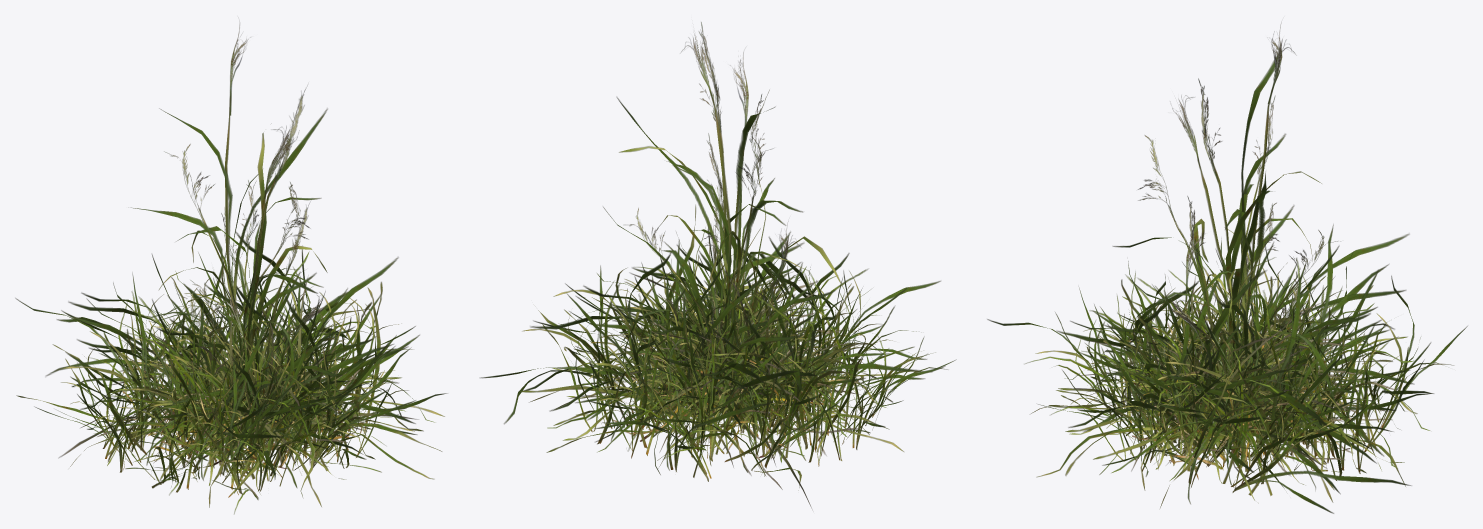
The model's file is grass.glb.
3 renders of one model, left to right at view 1: azimuth 30°, elevation 25°; view 2: azimuth 150°, elevation 25°; view 3: azimuth 270°, elevation 25°, orthographic. The views are drawn at different scales.
Visible parts, largest first — view 1: grass_medium_01_geonodes_large_a_LOD0, grass_medium_01_geonodes_large_c_LOD0, grass_medium_01_geonodes_large_b_LOD0, grass_medium_01_geonodes_mid_a_LOD0, grass_medium_01_geonodes_tall_b_LOD0, grass_medium_01_geonodes_tall_a_LOD0, grass_medium_01_geonodes_mid_c_LOD0; view 2: grass_medium_01_geonodes_large_a_LOD0, grass_medium_01_geonodes_large_c_LOD0, grass_medium_01_geonodes_large_b_LOD0, grass_medium_01_geonodes_mid_a_LOD0, grass_medium_01_geonodes_tall_a_LOD0, grass_medium_01_geonodes_tall_b_LOD0, grass_medium_01_geonodes_mid_c_LOD0; view 3: grass_medium_01_geonodes_large_a_LOD0, grass_medium_01_geonodes_large_c_LOD0, grass_medium_01_geonodes_large_b_LOD0, grass_medium_01_geonodes_mid_a_LOD0, grass_medium_01_geonodes_tall_a_LOD0, grass_medium_01_geonodes_tall_b_LOD0, grass_medium_01_geonodes_mid_c_LOD0.
Boxes of the visible parts, x1,y1,x2,y2 form: grass_medium_01_geonodes_large_a_LOD0: (15,220,419,513); grass_medium_01_geonodes_large_c_LOD0: (68,278,447,499); grass_medium_01_geonodes_large_b_LOD0: (45,251,444,507); grass_medium_01_geonodes_mid_a_LOD0: (58,201,418,494); grass_medium_01_geonodes_tall_b_LOD0: (157,85,327,406); grass_medium_01_geonodes_tall_a_LOD0: (131,23,327,399); grass_medium_01_geonodes_mid_c_LOD0: (154,284,398,487); grass_medium_01_geonodes_large_a_LOD0: (480,205,956,490); grass_medium_01_geonodes_large_c_LOD0: (523,231,926,489); grass_medium_01_geonodes_large_b_LOD0: (520,228,910,474); grass_medium_01_geonodes_mid_a_LOD0: (582,133,860,509); grass_medium_01_geonodes_tall_a_LOD0: (614,29,802,376); grass_medium_01_geonodes_tall_b_LOD0: (619,22,847,387); grass_medium_01_geonodes_mid_c_LOD0: (550,244,841,445); grass_medium_01_geonodes_large_a_LOD0: (987,205,1467,513); grass_medium_01_geonodes_large_c_LOD0: (1068,249,1430,493); grass_medium_01_geonodes_large_b_LOD0: (1031,227,1429,507); grass_medium_01_geonodes_mid_a_LOD0: (1078,196,1398,471); grass_medium_01_geonodes_tall_a_LOD0: (1113,22,1340,403); grass_medium_01_geonodes_tall_b_LOD0: (1126,78,1321,401); grass_medium_01_geonodes_mid_c_LOD0: (1097,238,1393,488).
Bounding box in the file's own units: 3.81 × 4.12 × 3.92.
Materials: 1 (1 with a texture image).
